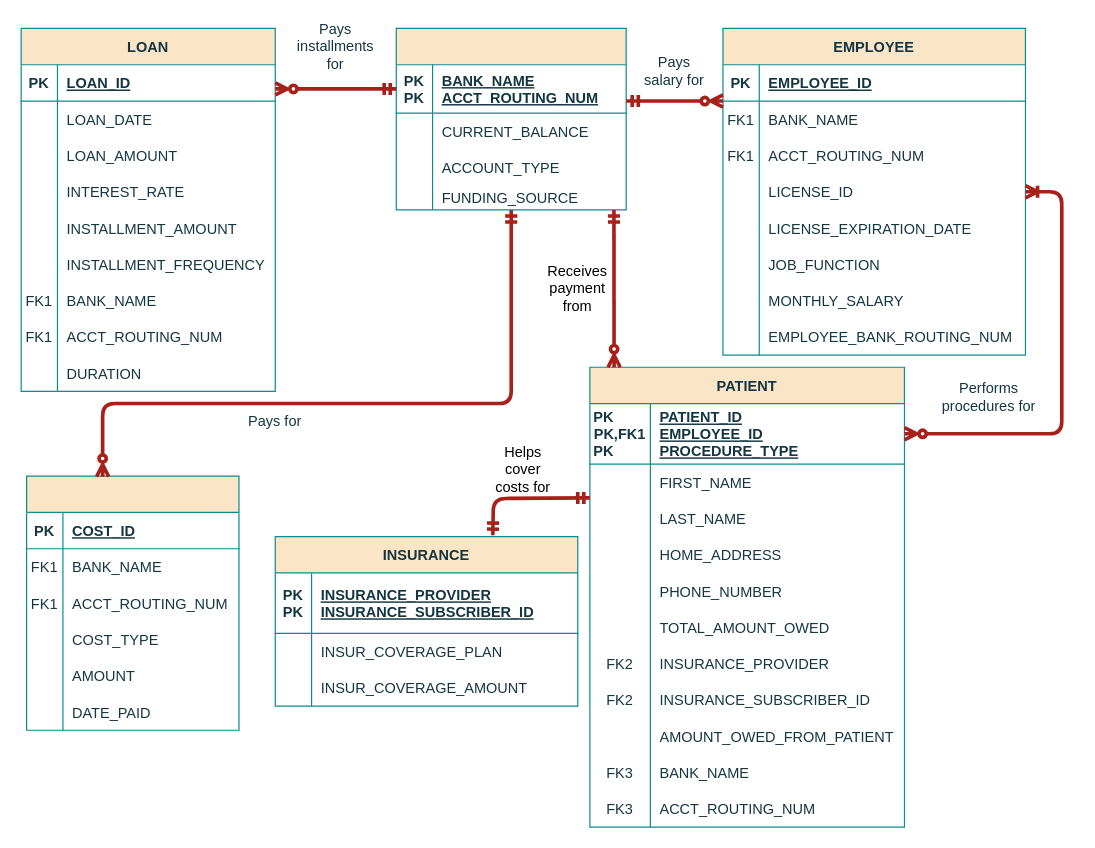
The diagram is 1095 pixels wide and 848 high, and some of its shapes have lost their labels. The box of each missing label's shape, as (x1, y1, x2, y2) in pixels:
BANK ACCOUNT: (395, 27, 626, 210)
STARTUP COST: (25, 475, 239, 730)
